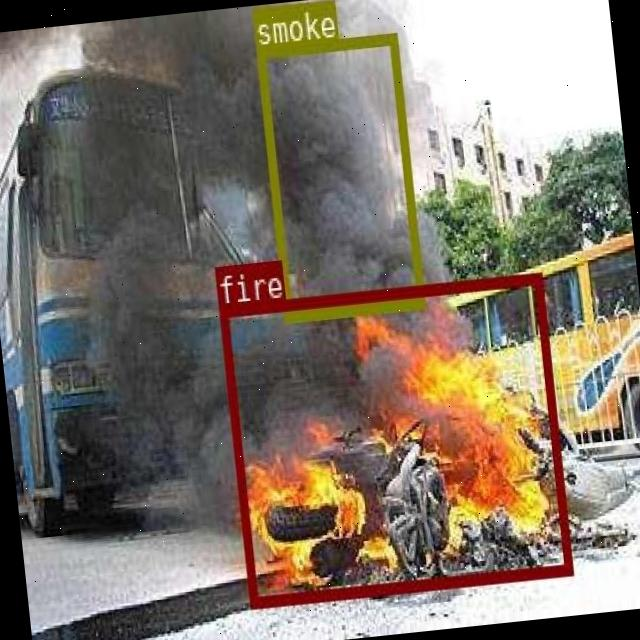fire: (218, 272, 572, 605)
smoke: (254, 32, 424, 320)
